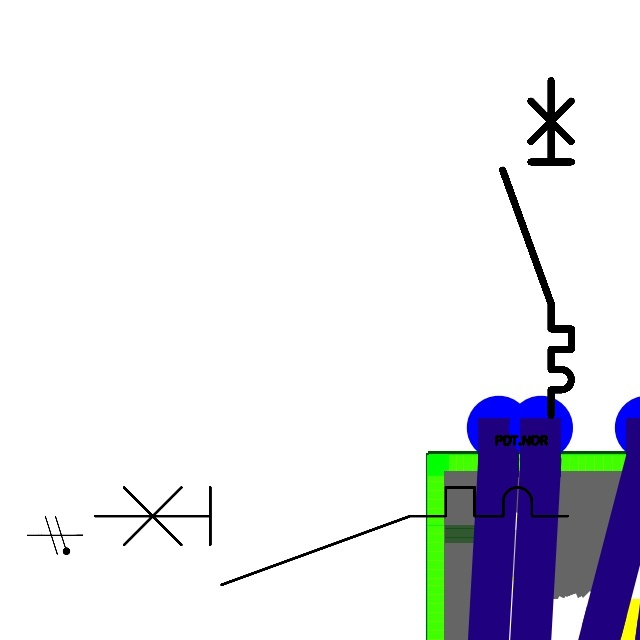interruptor_termomagnetico: (83, 475, 580, 596), (494, 72, 580, 424)
